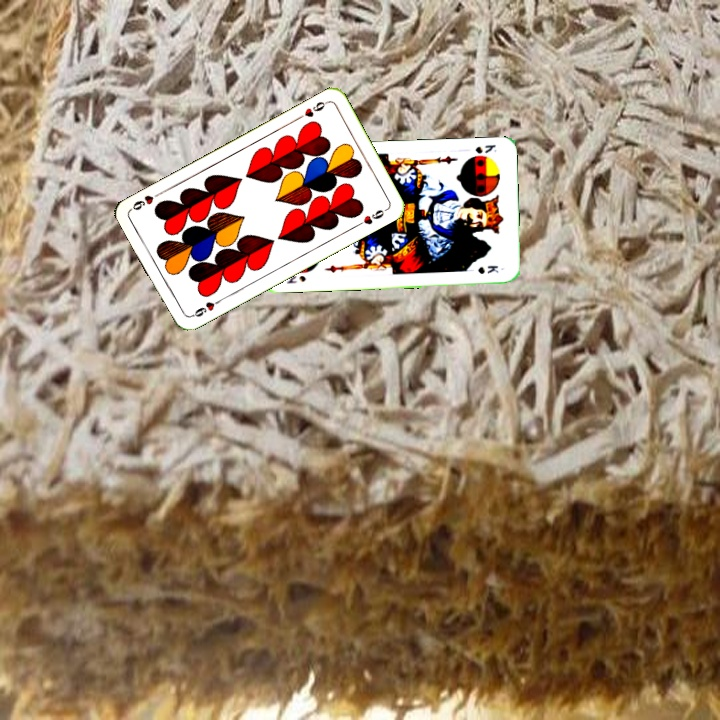H9: (294, 97, 331, 122), (187, 295, 224, 320)
SK: (471, 141, 499, 156), (282, 271, 308, 286)
